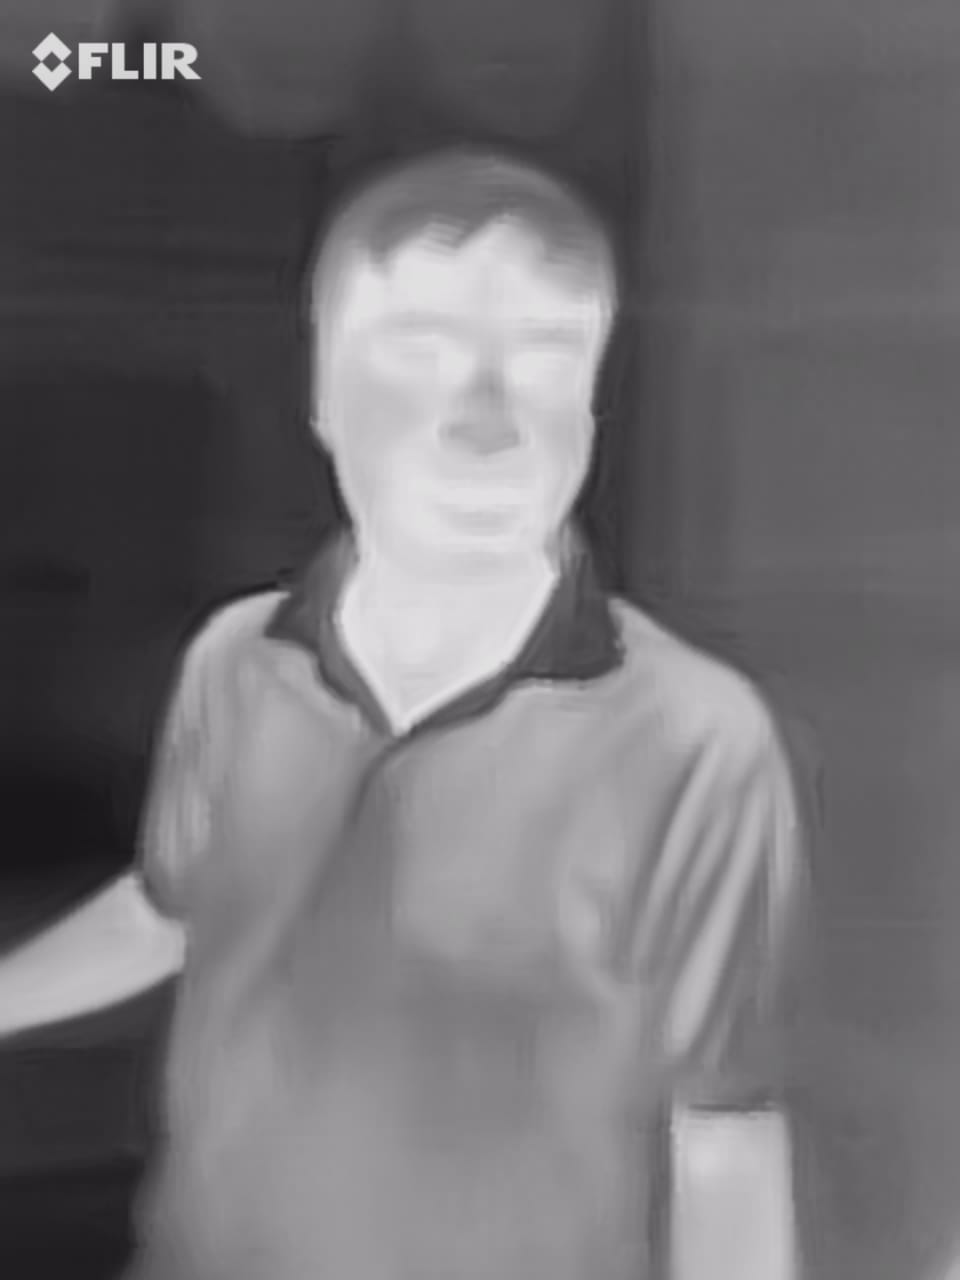head: (296, 133, 622, 621)
